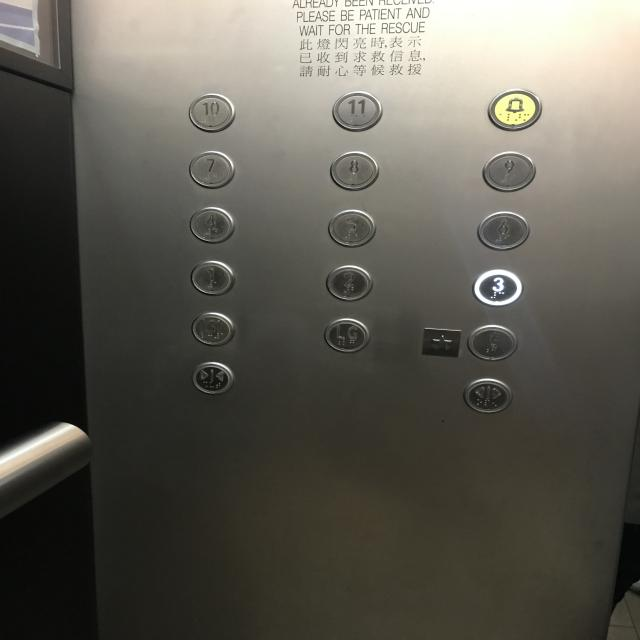1: (188, 260, 236, 297)
10: (185, 91, 238, 134)
11: (331, 90, 384, 132)
2: (324, 264, 374, 302)
3: (472, 268, 524, 308)
4: (186, 204, 238, 244)
5: (327, 207, 378, 247)
6: (475, 210, 532, 251)
7: (186, 149, 237, 189)
8: (327, 150, 381, 190)
9: (480, 148, 539, 194)
G: (466, 324, 520, 362)
LG: (321, 317, 371, 353)
LG1: (188, 310, 236, 346)
alarm: (485, 87, 543, 132)
close: (189, 359, 235, 397)
open: (462, 376, 514, 414)
s: (418, 324, 464, 359)
